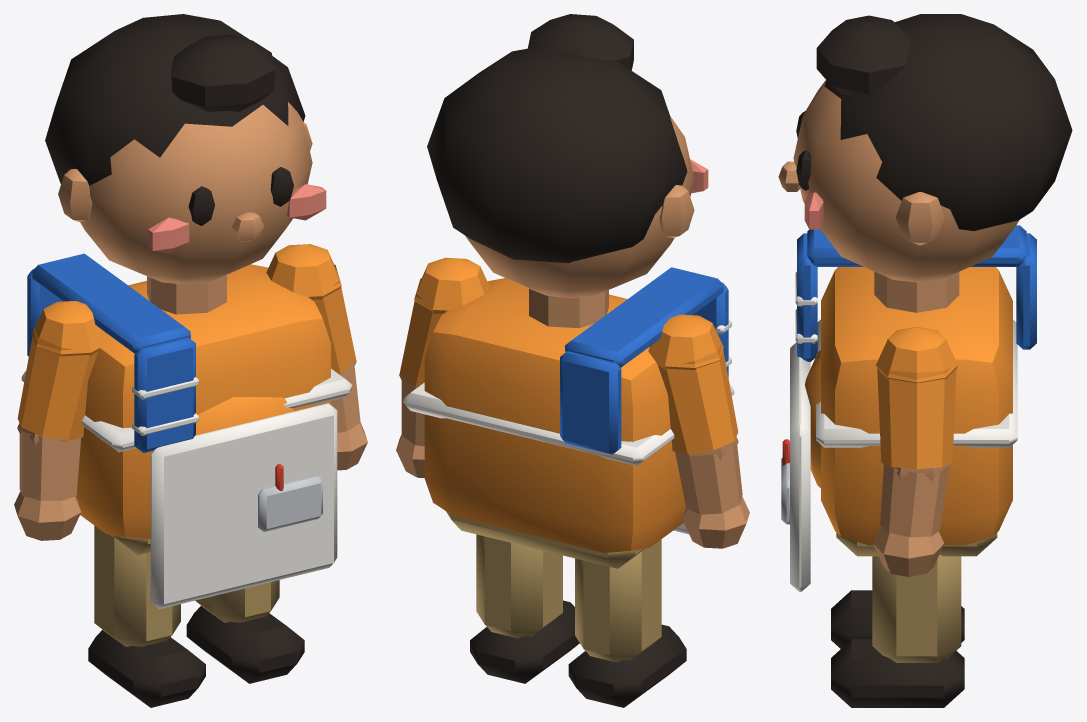
File: pappu.glb
3 views of the same model, side by side, from view 1: azimuth 30°, elevation 25°; view 2: azimuth 150°, elevation 25°; view 3: azimuth 270°, elevation 25° (orthographic). The views are drawn at different scales.
Parts seen in each view (by area): view 1: body, head, arm_r, leg_r, leg_l, arm_l; view 2: body, head, arm_r, leg_r, leg_l, arm_l; view 3: head, body, arm_l, leg_l, leg_r.
Part boxes in pixels (x1,y1,x2,y2): body: (21,253,352,609); head: (45,14,326,284); arm_r: (14,301,107,540); leg_r: (88,525,205,707); leg_l: (186,580,304,683); arm_l: (266,244,367,470); body: (403,267,734,568); head: (427,14,708,298); arm_r: (648,314,749,548); leg_r: (568,539,686,707); leg_l: (470,534,579,683); arm_l: (396,257,489,477); head: (778,14,1072,282); body: (781,225,1036,591); arm_l: (873,326,957,576); leg_l: (831,555,964,707); leg_r: (831,590,964,648).
Bounding box in the file's own units: 0.598 × 1.05 × 0.429.
1 material, 1 textured.
